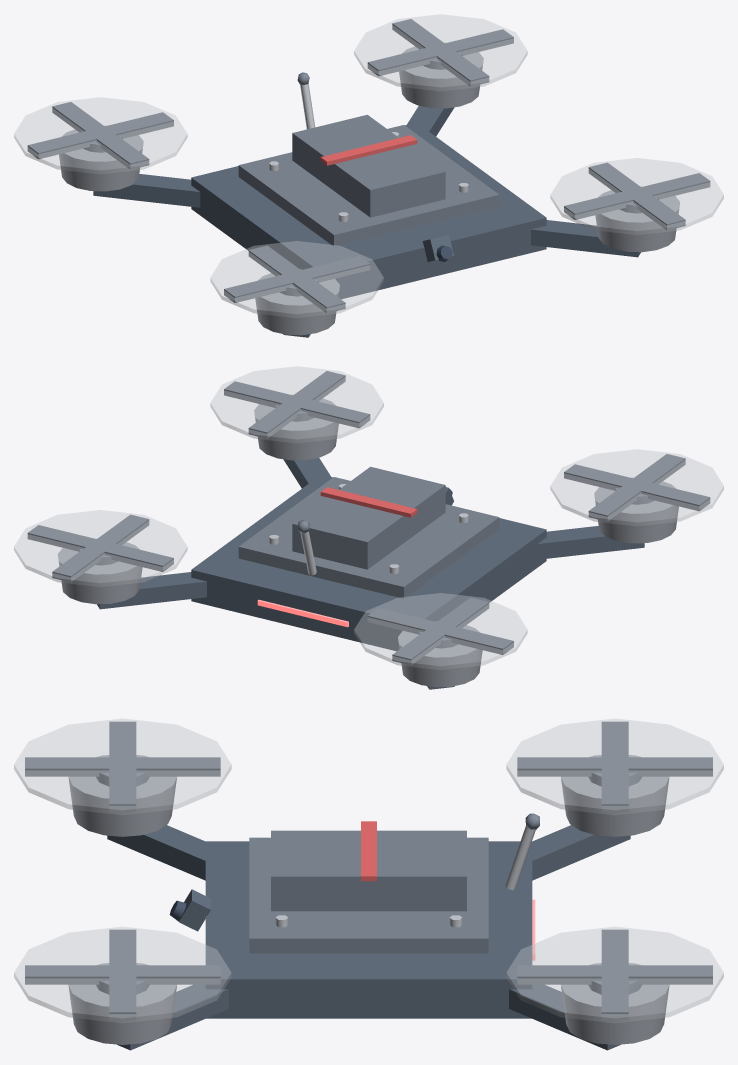
Rendered from fpv.glb.
The picture shows the model from 3 angles, top to bottom: view 1: azimuth 30°, elevation 25°; view 2: azimuth 150°, elevation 25°; view 3: azimuth 270°, elevation 25°; orthographic projection. The views are drawn at different scales.
Size of the model in its own units: 0.6525 by 0.1375 by 0.6525.
